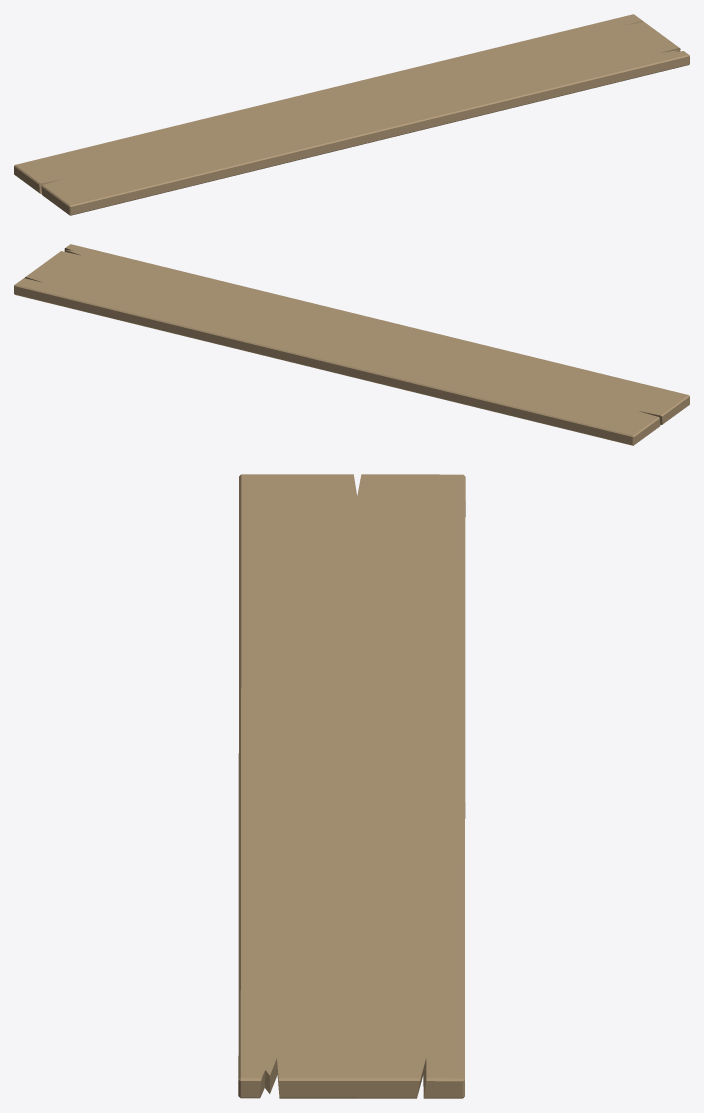
The model's file is WoodenPlankLarge.fbx.
3 views of the same model, one above another, from view 1: azimuth 30°, elevation 25°; view 2: azimuth 150°, elevation 25°; view 3: azimuth 270°, elevation 25° (orthographic). The views are drawn at different scales.
Visible parts, largest first — view 1: WoodenPlankMed; view 2: WoodenPlankMed; view 3: WoodenPlankMed.
Boxes of the visible parts, x1,y1,x2,y2 form: WoodenPlankMed: (14,14,689,215); WoodenPlankMed: (14,244,689,445); WoodenPlankMed: (238,474,465,1098).
Bounding box in the file's own units: 1266 × 20 × 201.
